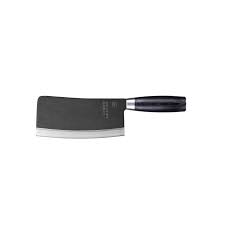knife: (33, 94, 187, 140)
